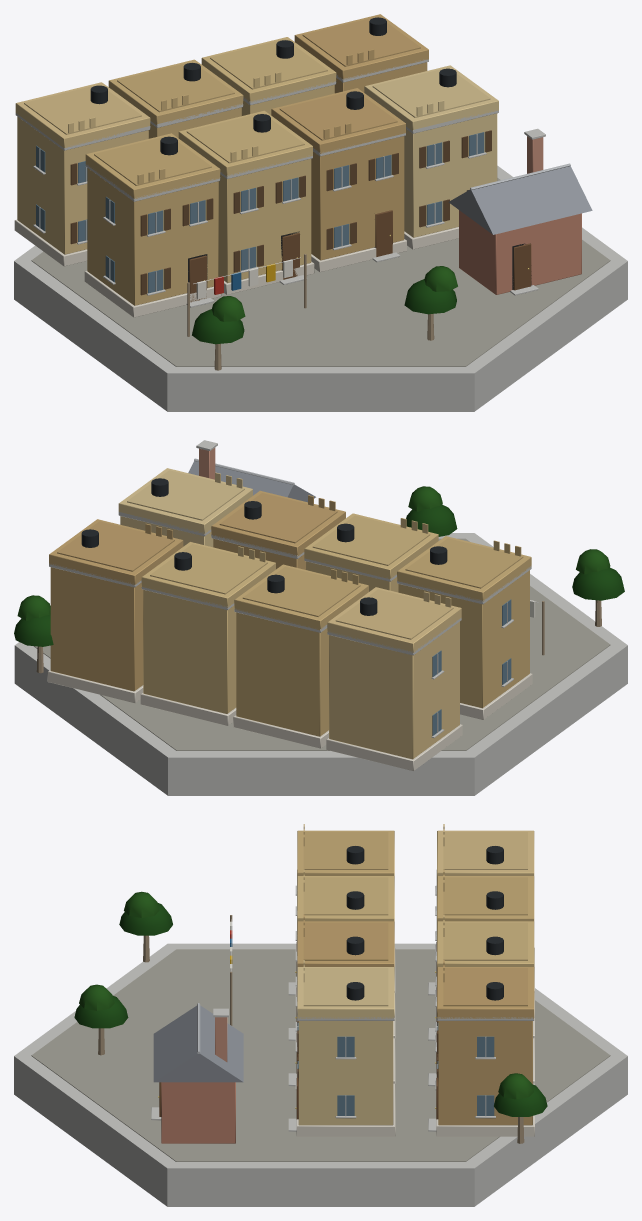
File: workerHouse_arab.glb
The picture shows the model from 3 angles, top to bottom: view 1: azimuth 30°, elevation 25°; view 2: azimuth 150°, elevation 25°; view 3: azimuth 270°, elevation 25°; orthographic projection.
Parts seen in each view (by area): view 1: plaster, wall_concrete, pavers, wood, brick, roof_slate, glass, stone, leaf, paint; view 2: plaster, wall_concrete, pavers, stone, leaf, paint, roof_slate, glass, wood; view 3: plaster, pavers, wall_concrete, roof_slate, leaf, brick, stone, paint, glass, wood.
Part boxes in pixels (left/top/right/bottom): plaster: left=15, top=14, right=498, bottom=305; wall_concrete: left=14, top=59, right=627, bottom=411; pavers: left=31, top=178, right=610, bottom=366; wood: left=70, top=130, right=531, bottom=370; brick: left=459, top=136, right=581, bottom=294; roof_slate: left=448, top=166, right=592, bottom=234; glass: left=36, top=132, right=484, bottom=293; stone: left=14, top=219, right=458, bottom=317; leaf: left=192, top=266, right=457, bottom=344; paint: left=90, top=17, right=456, bottom=299; plaster: left=49, top=468, right=531, bottom=759; wall_concrete: left=14, top=440, right=627, bottom=795; pavers: left=33, top=538, right=610, bottom=750; stone: left=47, top=670, right=532, bottom=770; leaf: left=14, top=486, right=624, bottom=646; paint: left=81, top=478, right=538, bottom=617; roof_slate: left=188, top=461, right=315, bottom=502; glass: left=432, top=599, right=511, bottom=735; wood: left=36, top=600, right=601, bottom=673; plaster: left=297, top=824, right=534, bottom=1125; pavers: left=31, top=949, right=610, bottom=1161; wall_concrete: left=14, top=869, right=627, bottom=1206; roof_slate: left=153, top=1005, right=243, bottom=1082; leaf: left=74, top=891, right=547, bottom=1116; brick: left=161, top=1017, right=235, bottom=1143; stone: left=296, top=947, right=534, bottom=1136; paint: left=230, top=846, right=503, bottom=1000; glass: left=297, top=1022, right=494, bottom=1115; wood: left=98, top=915, right=524, bottom=1143.
Size of the model in its own units: 21.3 by 7.93 by 24.6.
